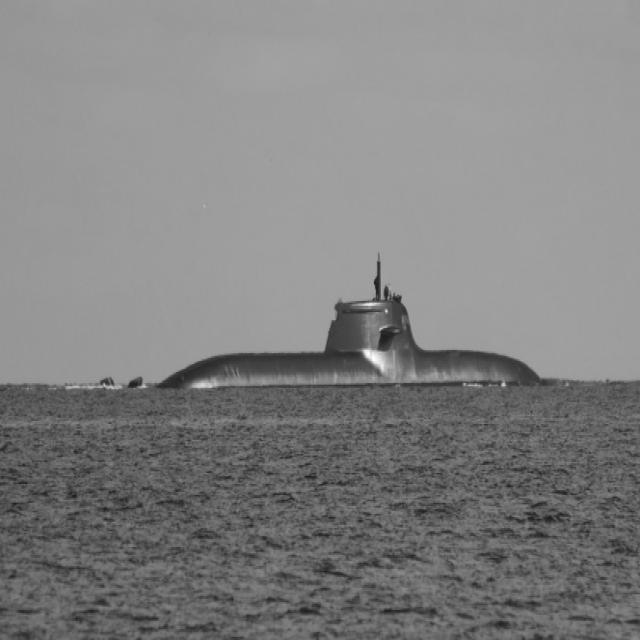submarine: (100, 253, 545, 394)
